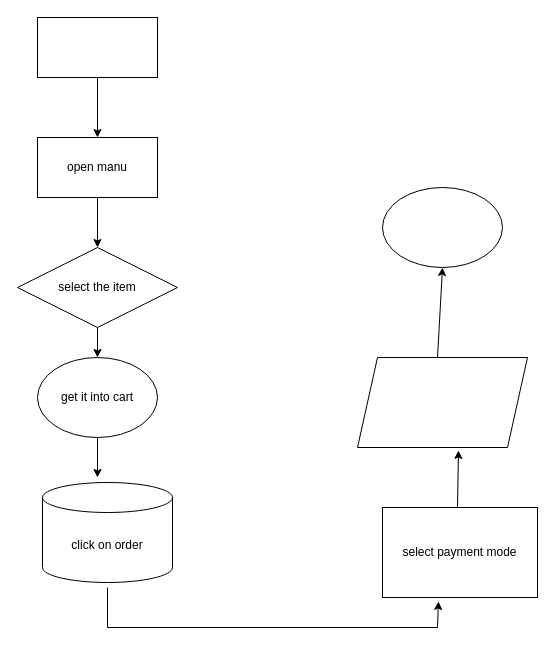
Image size: 555x653. Some labels were removed from this diagram. Each missing label, with the centre of its shape:
now complete the payment: (442,402)
open the app: (97,47)
